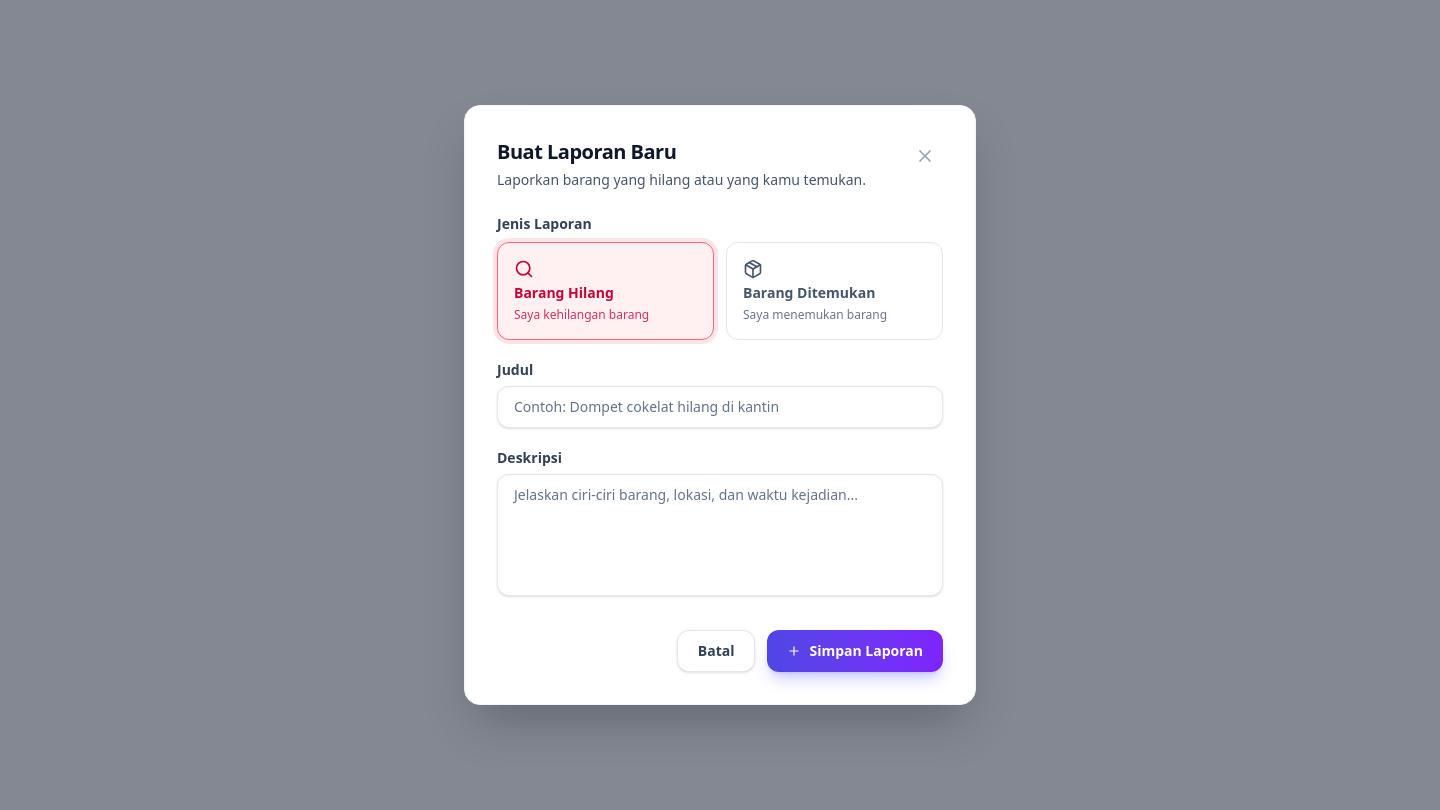
AddModal › menampilkan pesan wajib diisi saat formulir kosong
What coordinates should you click on to do the following:
click the button "Simpan Laporan"
I would click on:
 (855, 651)
Its box is [768, 630, 943, 672].
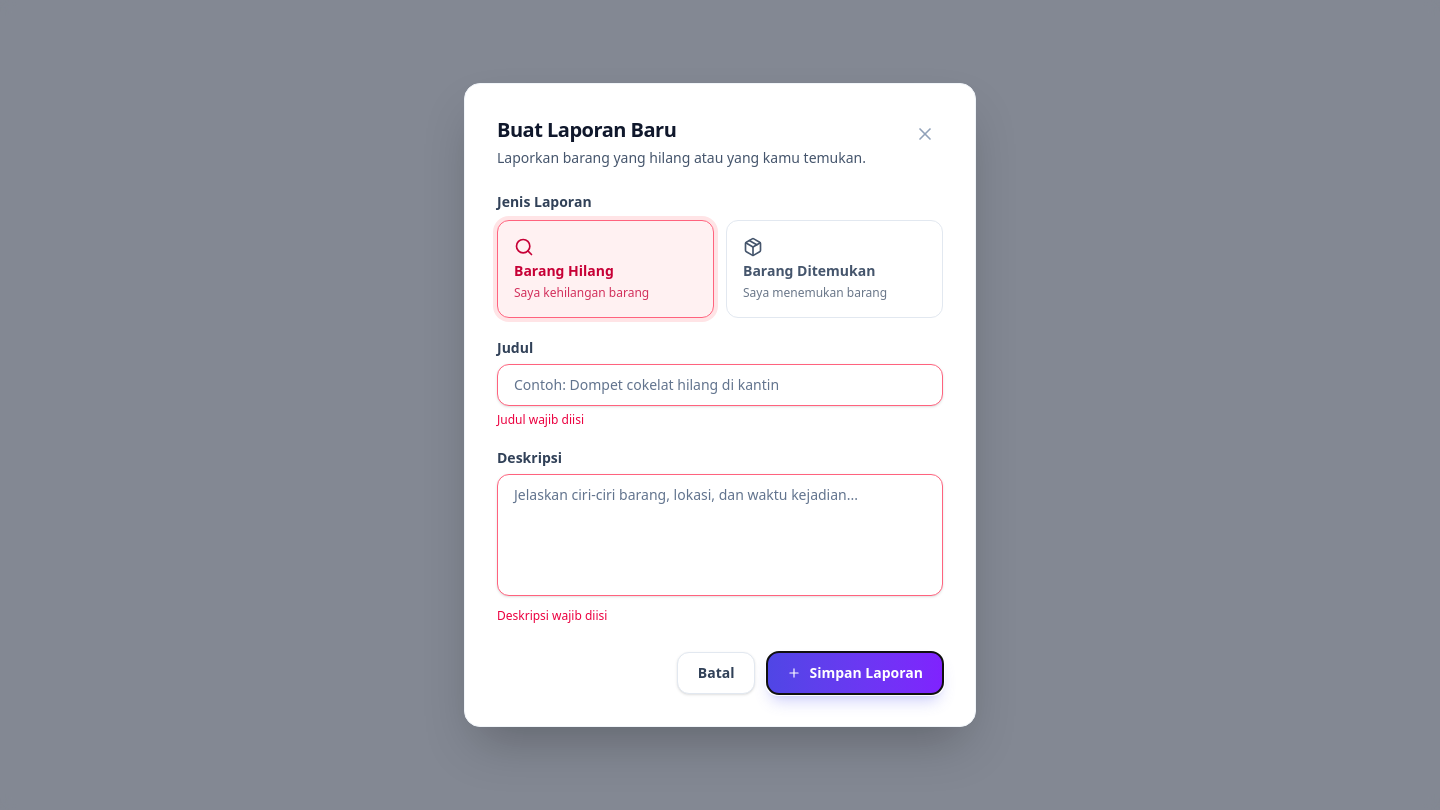
Result: the text "Judul wajib diisi" is shown at [497, 411, 584, 428]
Result: the text "Deskripsi wajib diisi" is shown at [497, 607, 607, 624]
